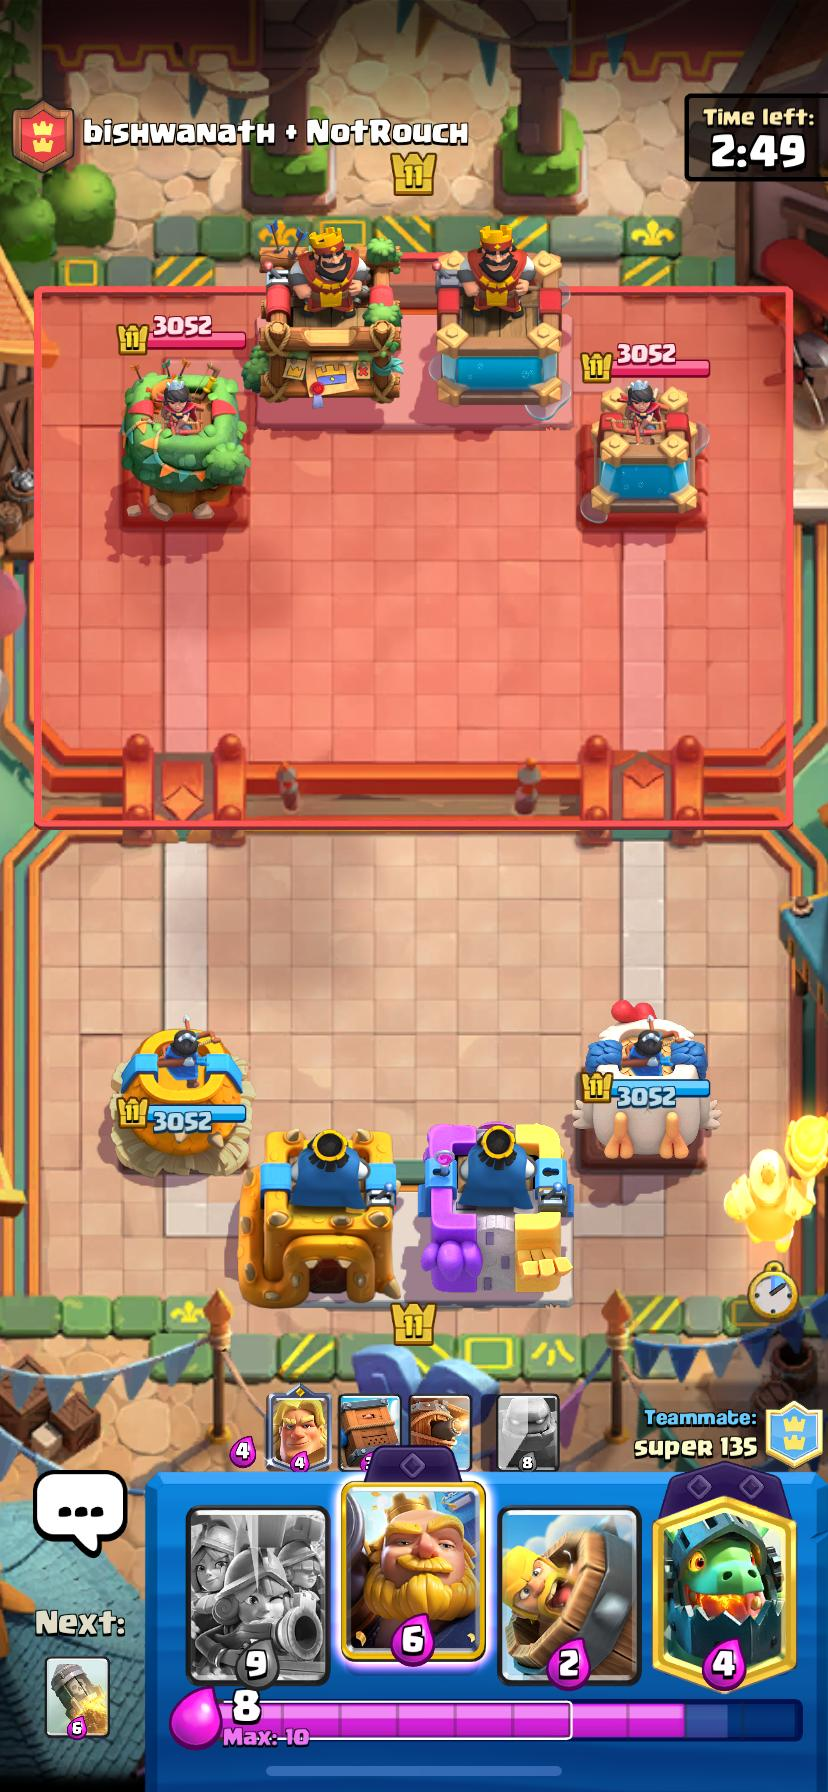EKingTower: (242, 226, 401, 403), (428, 226, 568, 409)
EnemyPrincessTower: (121, 367, 250, 521), (581, 379, 708, 523)
OwnKingTower: (239, 1129, 400, 1305), (417, 1123, 572, 1299)
OwnPrincessTower: (575, 1001, 719, 1163), (111, 1019, 252, 1175)
